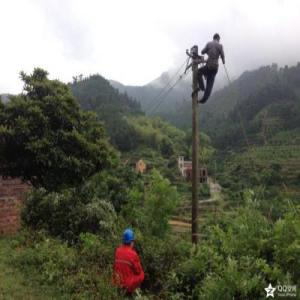blue: (123, 230, 135, 248)
none: (213, 33, 221, 44)
